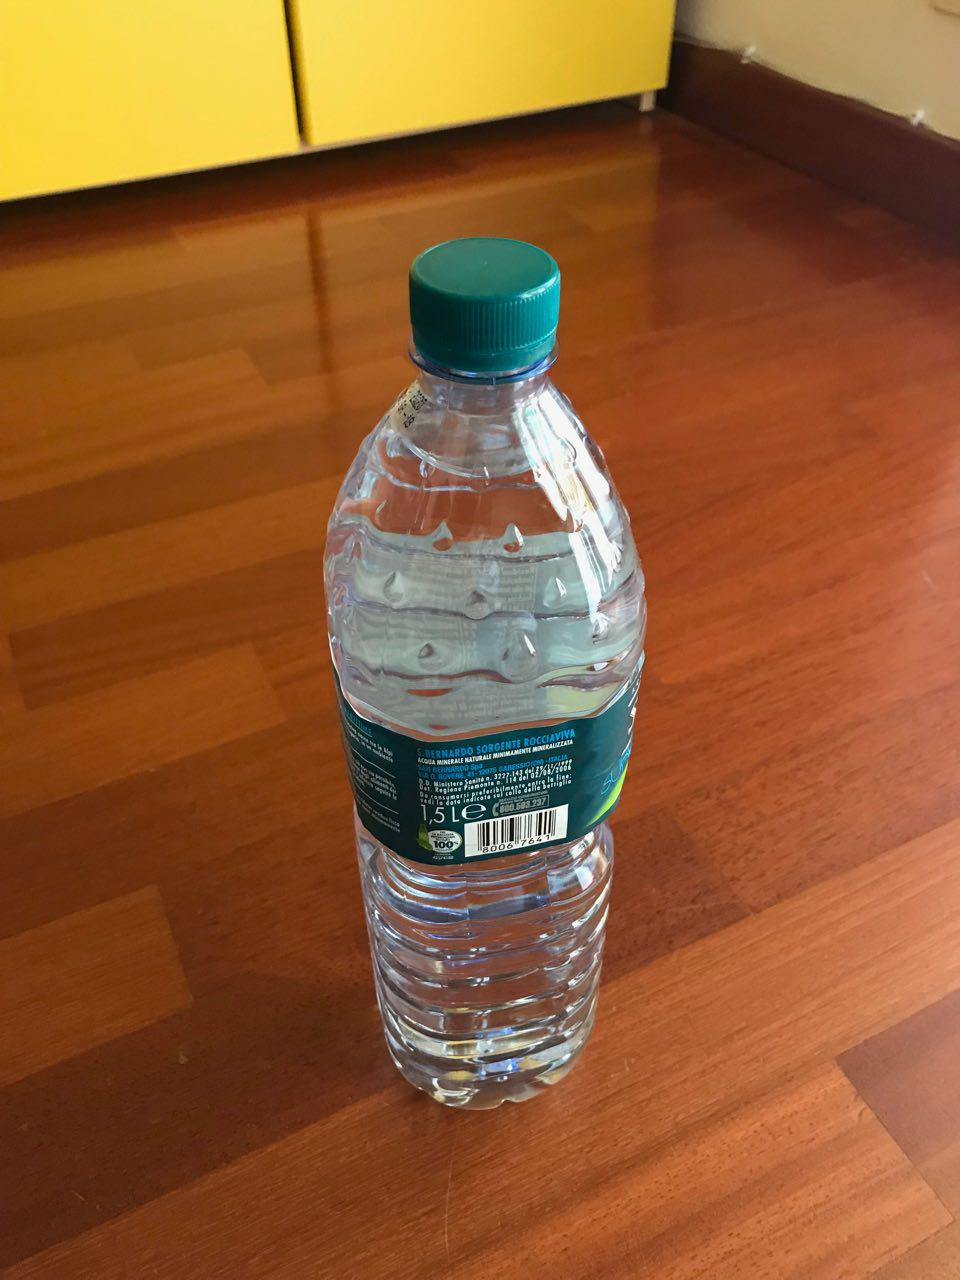san_bernardo: (319, 232, 649, 1115)
